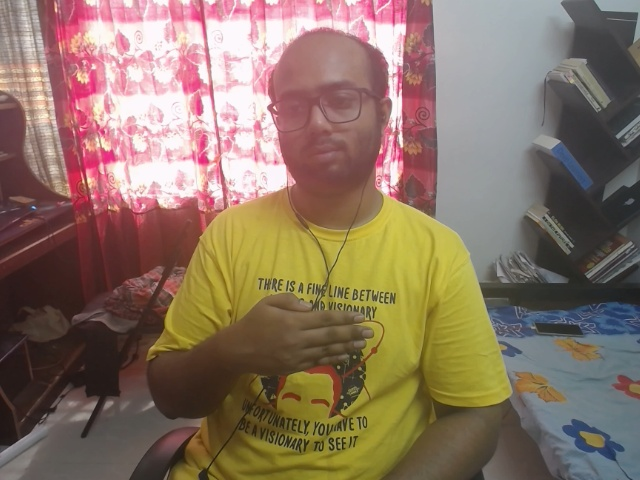north: (211, 277, 385, 398)
